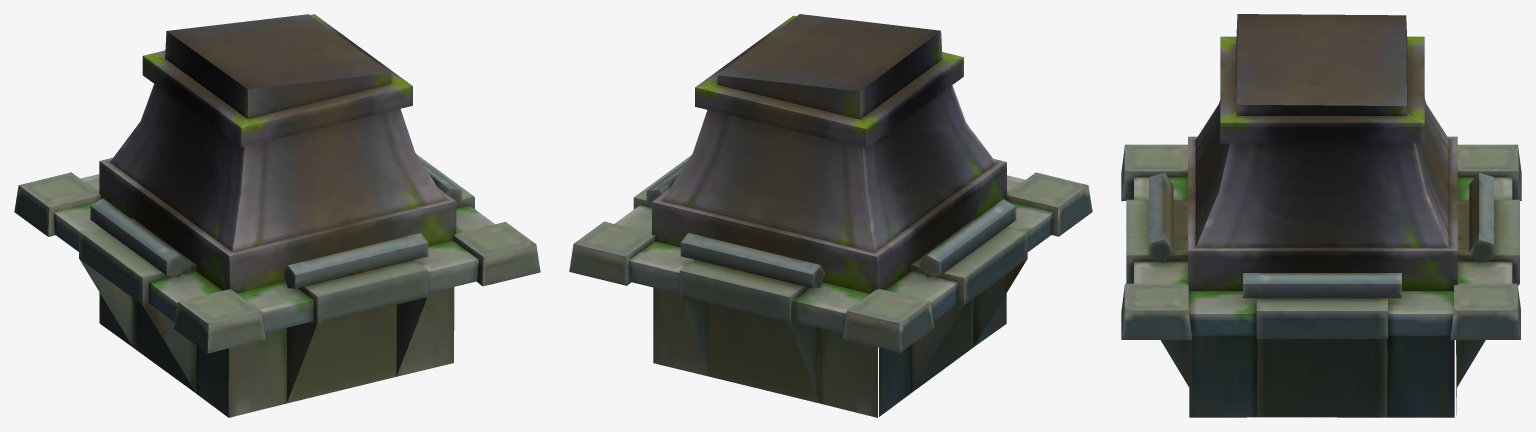
3 renders of one model, left to right at view 1: azimuth 30°, elevation 25°; view 2: azimuth 150°, elevation 25°; view 3: azimuth 270°, elevation 25°, orthographic. The views are drawn at different scales.
Visible parts, largest first — view 1: Mesh_0058; view 2: Mesh_0058; view 3: Mesh_0058.
Boxes of the visible parts, x1=… form: Mesh_0058: x1=14, y1=14, x2=540, y2=417; Mesh_0058: x1=569, y1=14, x2=1092, y2=417; Mesh_0058: x1=1121, y1=14, x2=1521, y2=417.
Size of the model in its own units: 5360 by 4633 by 5389.
